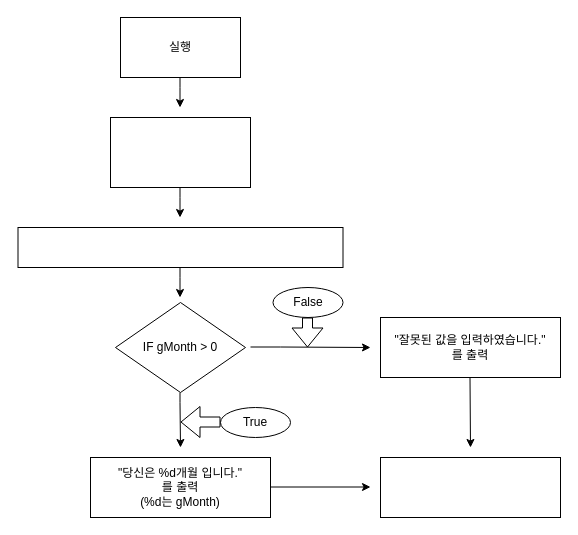
This 578x535 diagram has some shape labels left out. Here are the shapes that lost their labels. From the top down, the centre of each, then its label:
point 180,152: 변수 입력 (현재연도, 태어난 연도, 현재 달, 태어난 달)
point 180,247: (현재 연도 - 태어난 연도) * 12 - (현재 달 - 태어난 달) = gMonth
point 470,487: 종료
